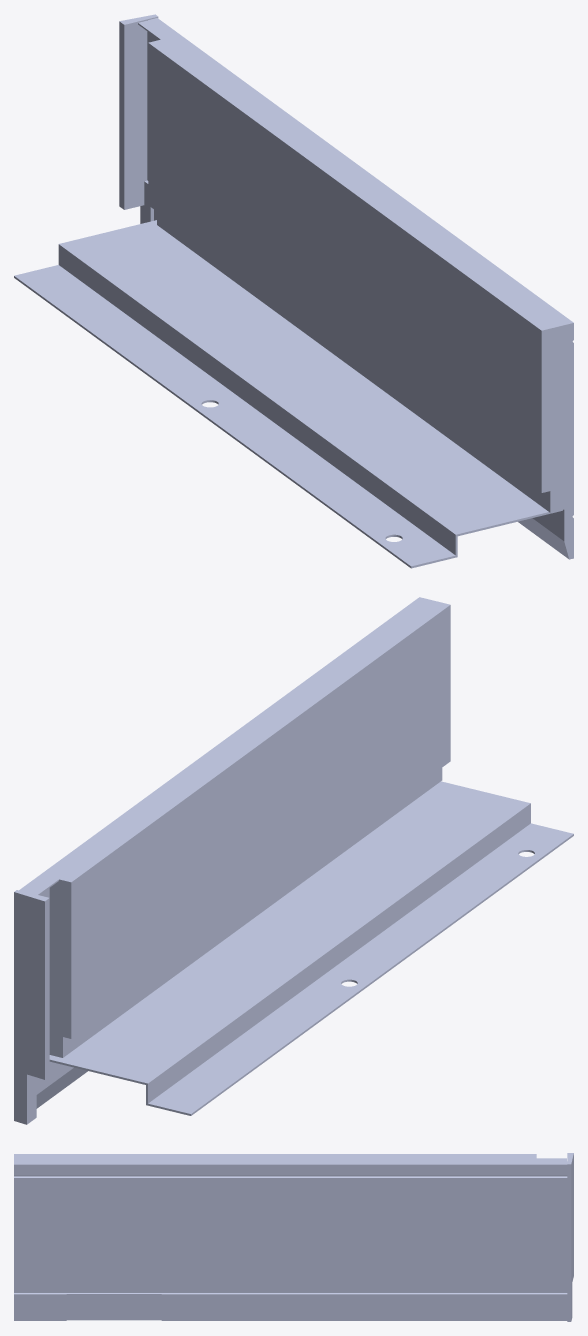
The model's file is lg-kava-M300-m.glb.
3 views of the same model, one above another, from view 1: azimuth 30°, elevation 25°; view 2: azimuth 150°, elevation 25°; view 3: azimuth 270°, elevation 25° (orthographic). The views are drawn at different scales.
Visible parts, largest first — view 1: 47169601; view 2: 47169601; view 3: 47169601.
Part boxes in pixels (<box>): 47169601: <box>14,14,573,568</box>; 47169601: <box>14,597,573,1124</box>; 47169601: <box>14,1153,573,1321</box>.
Size of the model in its own units: 0.0653 by 0.0912 by 0.2935.
